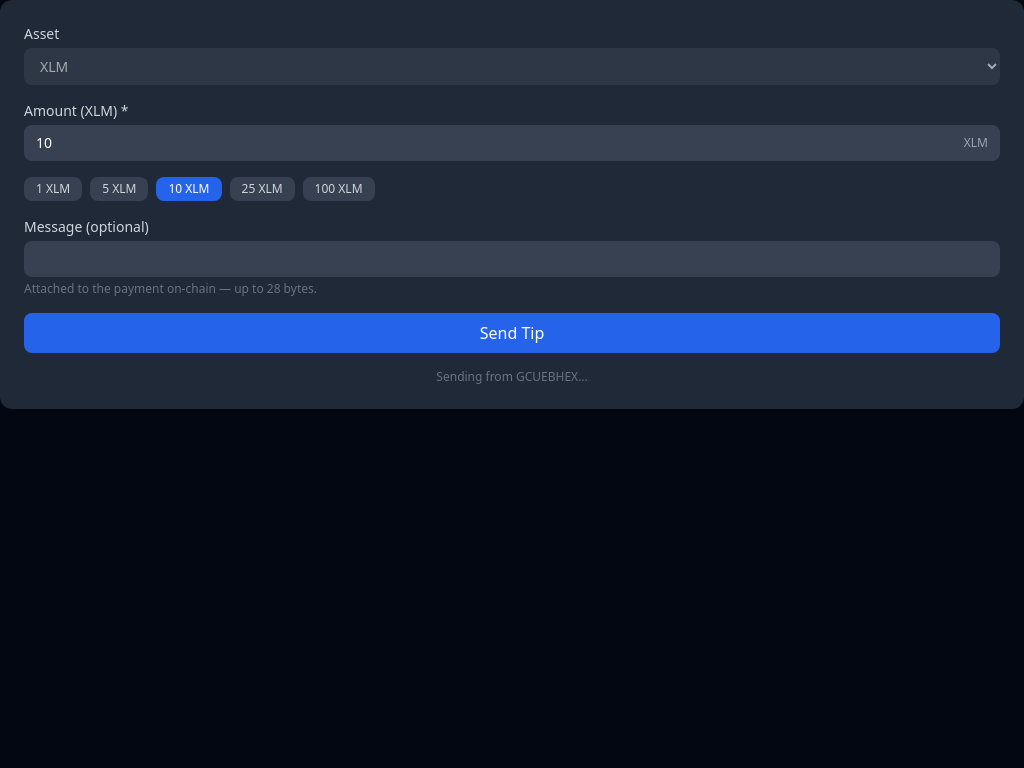
Test: TipForm — sending › confirms success and links the transaction
Click the button "Send Tip" at x=512, y=333, box [24,313,1000,353]
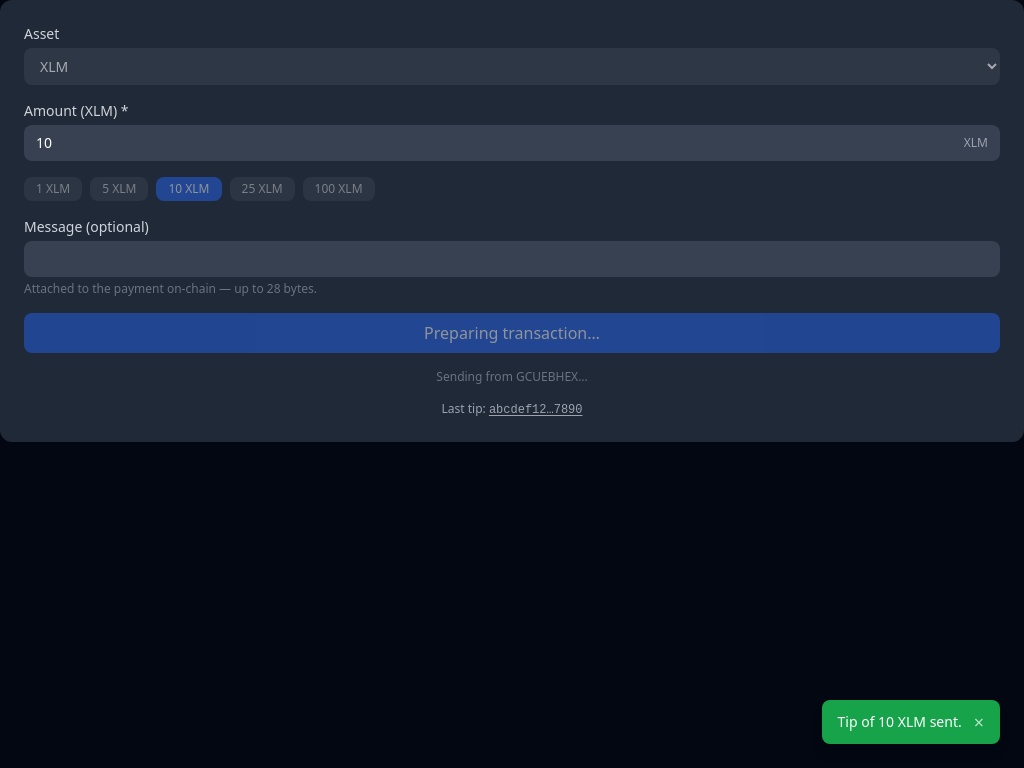
expect the text "Tip of 10 XLM sent." is shown: met, box [838,712,962,732]
